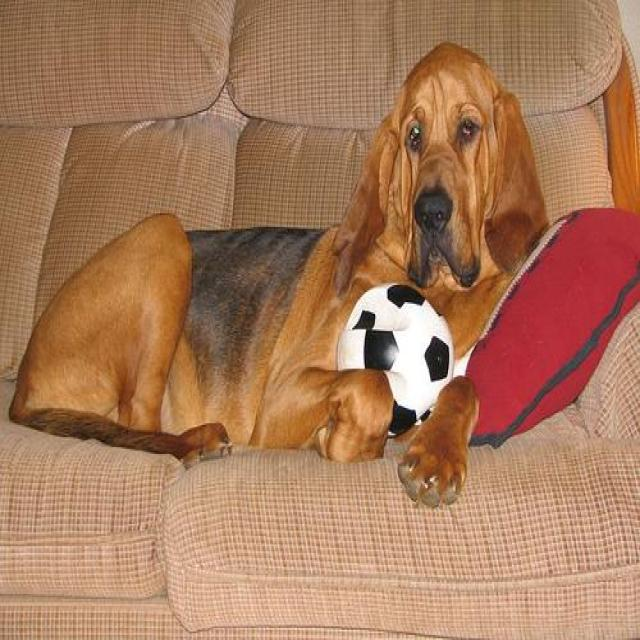bloodhound: (8, 38, 546, 504)
